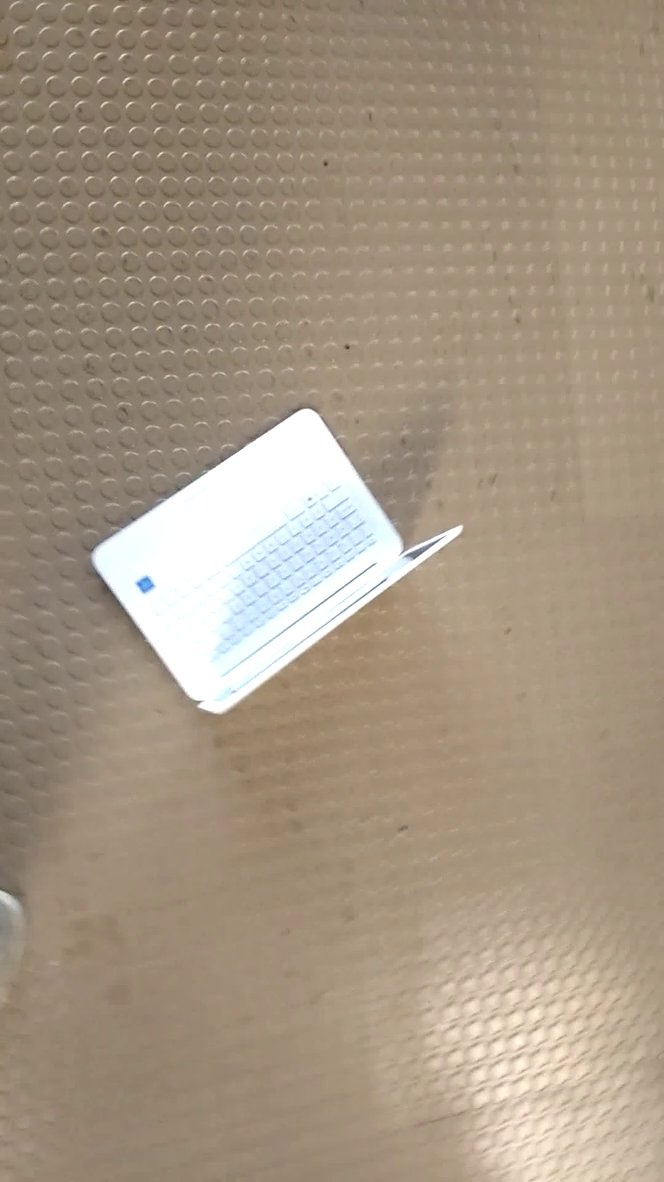laptop: (84, 400, 473, 725)
